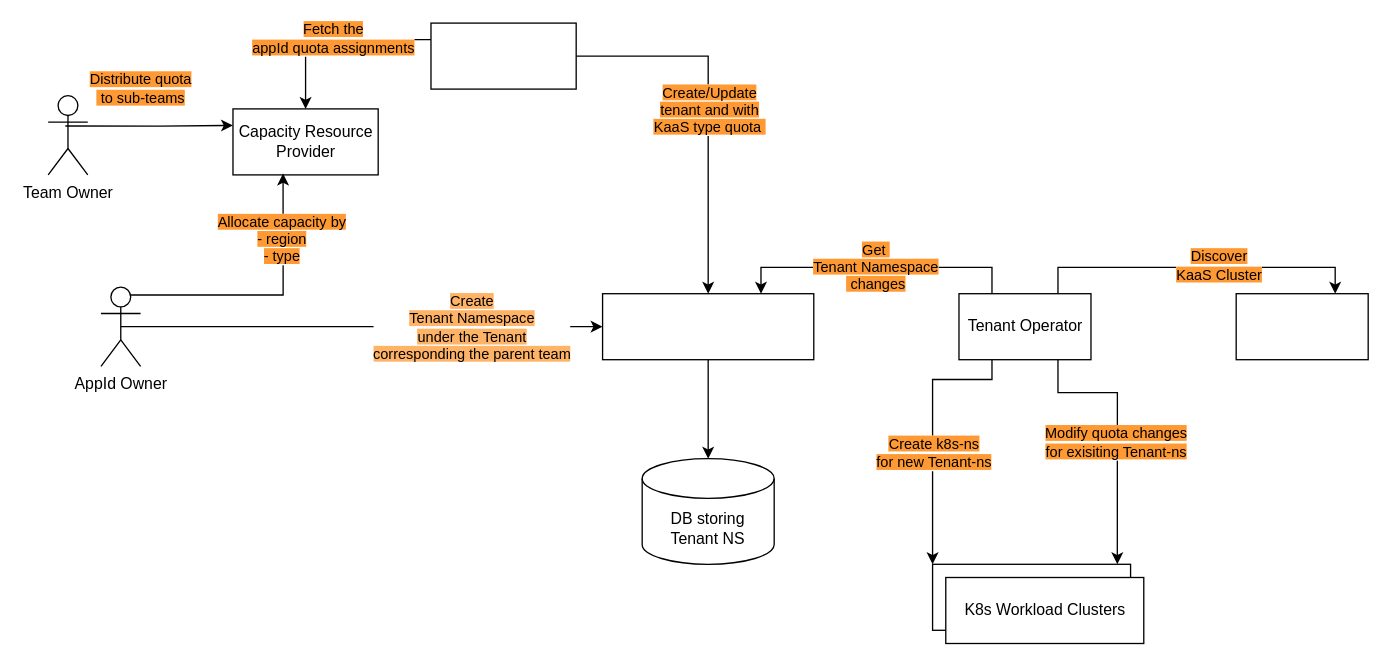
Image size: 1391x667. Some labels were removed from this diagram. Here are the shapes that lost their labels. From the top down, the box of each, then its label:
(430, 22, 576, 89): K8s AuthZ/Capacity adapter
(601, 292, 814, 360): Tenant Registry
(1235, 292, 1368, 360): Cluster Registry
